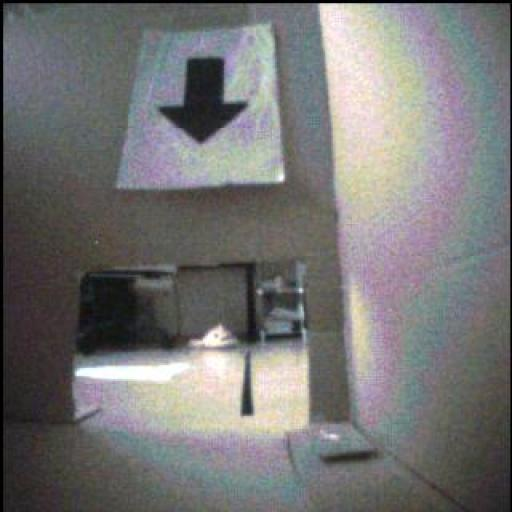arrow: (160, 59, 248, 144)
